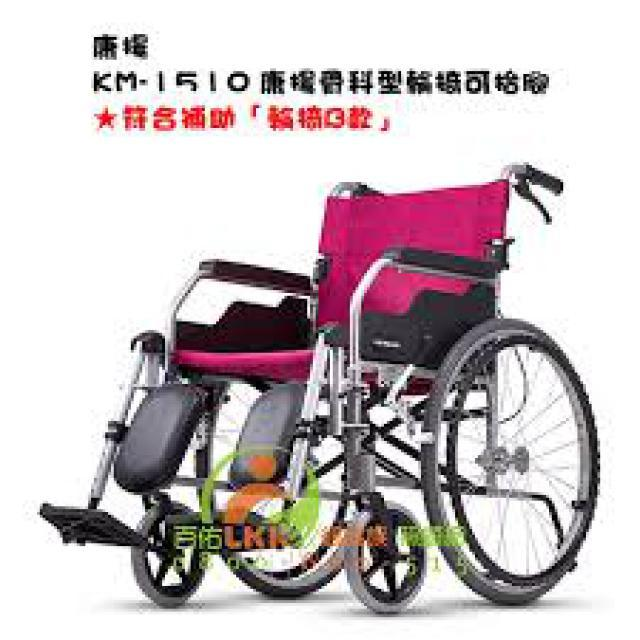wheelchair: (12, 160, 614, 634)
